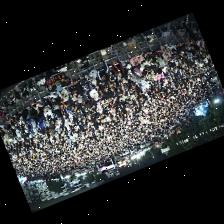person: (96, 55, 109, 80), (110, 60, 122, 77), (41, 99, 51, 118), (129, 53, 141, 68), (60, 95, 70, 112), (67, 81, 79, 95), (45, 92, 59, 104), (84, 69, 95, 83), (120, 58, 132, 70), (142, 50, 154, 62), (52, 104, 60, 122), (108, 71, 118, 85), (89, 83, 97, 100), (87, 94, 96, 109), (29, 101, 41, 112), (56, 88, 67, 100), (24, 111, 31, 129), (79, 76, 89, 88), (58, 103, 66, 118), (75, 83, 81, 102), (167, 43, 177, 54), (140, 57, 149, 69), (90, 77, 99, 89), (36, 117, 43, 132), (81, 100, 89, 113), (126, 67, 134, 80), (18, 109, 27, 120), (161, 52, 172, 61), (99, 80, 108, 91), (156, 57, 164, 69), (133, 67, 143, 76), (144, 65, 154, 74), (175, 42, 185, 51), (116, 74, 125, 84), (30, 116, 36, 131), (134, 74, 141, 86), (155, 72, 163, 82), (160, 44, 168, 53), (194, 39, 203, 47), (145, 73, 153, 82), (2, 120, 9, 130), (7, 117, 14, 127), (81, 85, 88, 95), (179, 51, 187, 58), (96, 101, 101, 112), (184, 38, 189, 49), (149, 60, 158, 66), (172, 56, 181, 62), (19, 116, 23, 128), (81, 95, 86, 104), (0, 124, 5, 130)
